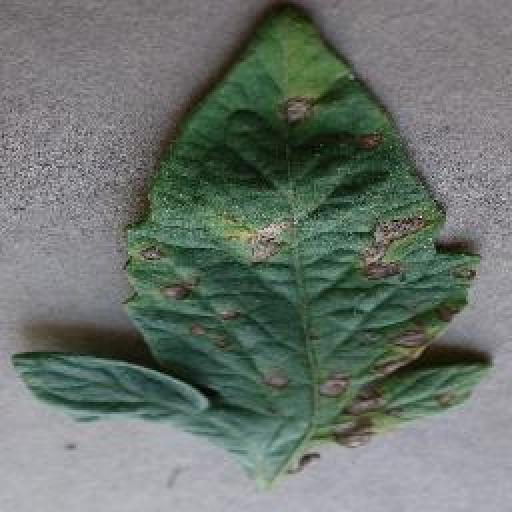Early Blight: (15, 5, 498, 484)
